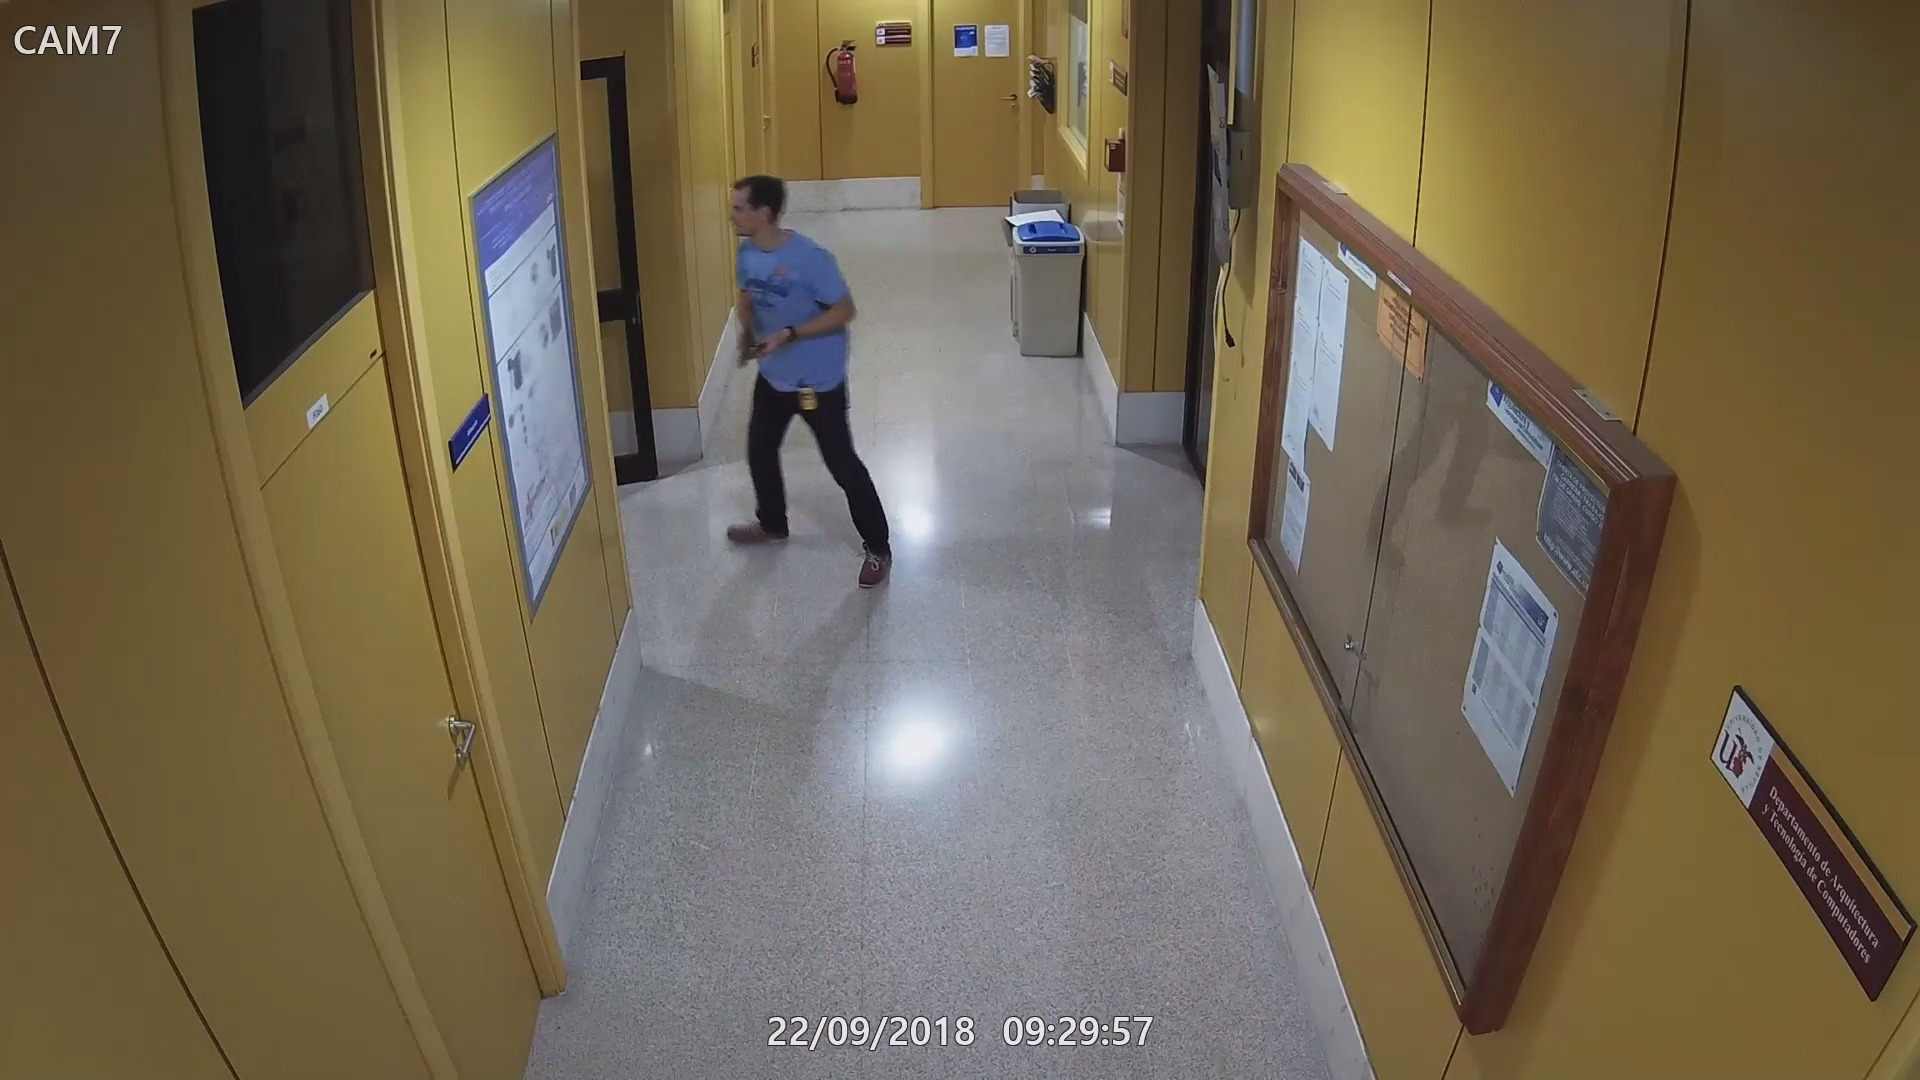Handgun: (735, 319, 767, 367)
Knife: (744, 334, 775, 365)
